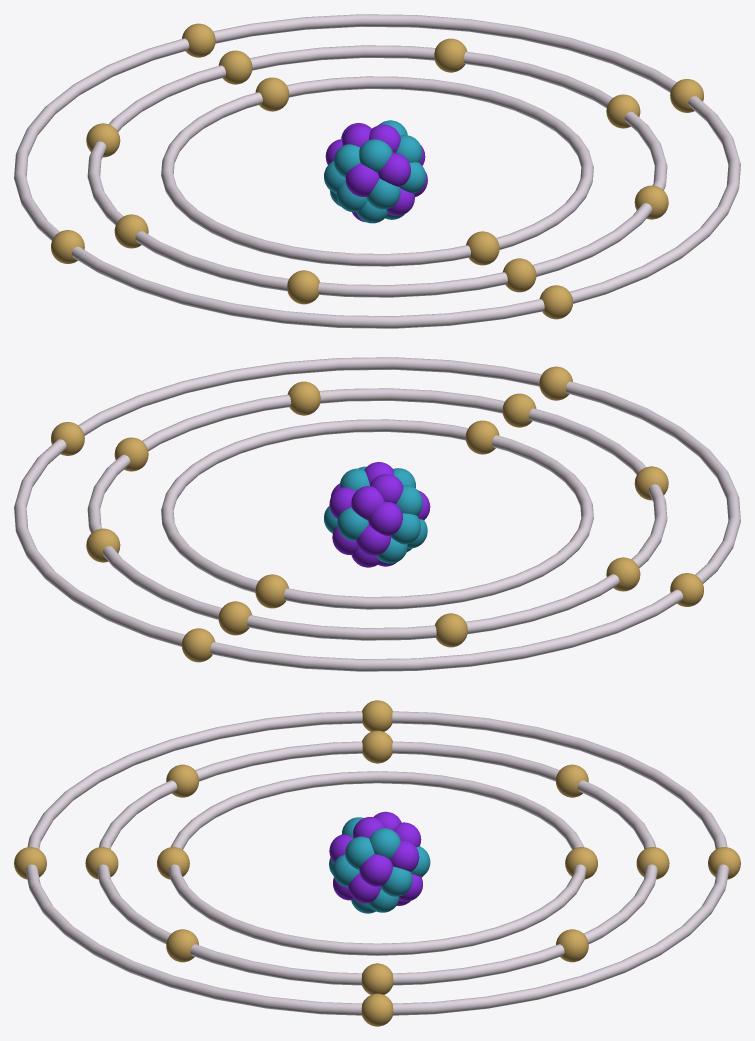
Rendered from silicio.glb.
3 renders of one model, top to bottom at view 1: azimuth 30°, elevation 25°; view 2: azimuth 150°, elevation 25°; view 3: azimuth 270°, elevation 25°, orthographic. The views are drawn at different scales.
Visible parts, largest first — view 1: Orbita_3, Orbita_2, Orbita_1, Nucleo_Completo, Eletron_C2_8, Eletron_C2_4, Eletron_C2_1, Eletron_C3_1, Eletron_1, Eletron_C2_5, Eletron_2, Eletron_C3_3 (+6 smaller); view 2: Orbita_3, Orbita_2, Orbita_1, Nucleo_Completo, Eletron_C2_6, Eletron_C2_2, Eletron_C2_5, Eletron_C3_3, Eletron_2, Eletron_C2_1, Eletron_1, Eletron_C3_1 (+6 smaller); view 3: Orbita_3, Orbita_2, Orbita_1, Nucleo_Completo, Eletron_C3_2, Eletron_C2_7, Eletron_C2_3, Eletron_C3_4, Eletron_C2_2, Eletron_C2_4, Eletron_C2_6, Eletron_C2_8 (+6 smaller).
Part boxes in pixels (left/top/right/bottom): Orbita_3: left=14, top=14, right=740, bottom=328; Orbita_2: left=87, top=45, right=667, bottom=297; Orbita_1: left=161, top=76, right=593, bottom=266; Nucleo_Completo: left=324, top=120, right=427, bottom=223; Eletron_C2_8: left=287, top=270, right=319, bottom=304; Eletron_C2_4: left=434, top=38, right=467, bottom=72; Eletron_C2_1: left=503, top=258, right=536, bottom=292; Eletron_C3_1: left=539, top=285, right=573, bottom=319; Eletron_1: left=466, top=231, right=499, bottom=265; Eletron_C2_5: left=218, top=50, right=252, bottom=84; Eletron_2: left=255, top=77, right=289, bottom=111; Eletron_C3_3: left=182, top=23, right=215, bottom=57; Orbita_3: left=14, top=357, right=740, bottom=671; Orbita_2: left=87, top=388, right=667, bottom=640; Orbita_1: left=161, top=419, right=593, bottom=609; Nucleo_Completo: left=324, top=462, right=430, bottom=567; Eletron_C2_6: left=435, top=613, right=467, bottom=647; Eletron_C2_2: left=287, top=381, right=320, bottom=415; Eletron_C2_5: left=218, top=601, right=251, bottom=635; Eletron_C3_3: left=181, top=628, right=215, bottom=662; Eletron_2: left=255, top=574, right=288, bottom=608; Eletron_C2_1: left=502, top=393, right=536, bottom=427; Eletron_1: left=465, top=420, right=499, bottom=454; Eletron_C3_1: left=539, top=366, right=572, bottom=400; Orbita_3: left=25, top=711, right=729, bottom=1015; Orbita_2: left=97, top=741, right=657, bottom=985; Orbita_1: left=168, top=771, right=586, bottom=955; Nucleo_Completo: left=329, top=811, right=430, bottom=913; Eletron_C3_2: left=361, top=993, right=393, bottom=1026; Eletron_C2_7: left=362, top=730, right=392, bottom=763; Eletron_C2_3: left=361, top=963, right=393, bottom=994; Eletron_C3_4: left=362, top=700, right=392, bottom=731; Eletron_C2_2: left=166, top=929, right=198, bottom=962; Eletron_C2_4: left=556, top=929, right=588, bottom=962; Eletron_C2_6: left=555, top=764, right=588, bottom=797; Eletron_C2_8: left=166, top=764, right=199, bottom=797.
Bounding box in the file's own units: 3.56 × 0.4997 × 3.56.
